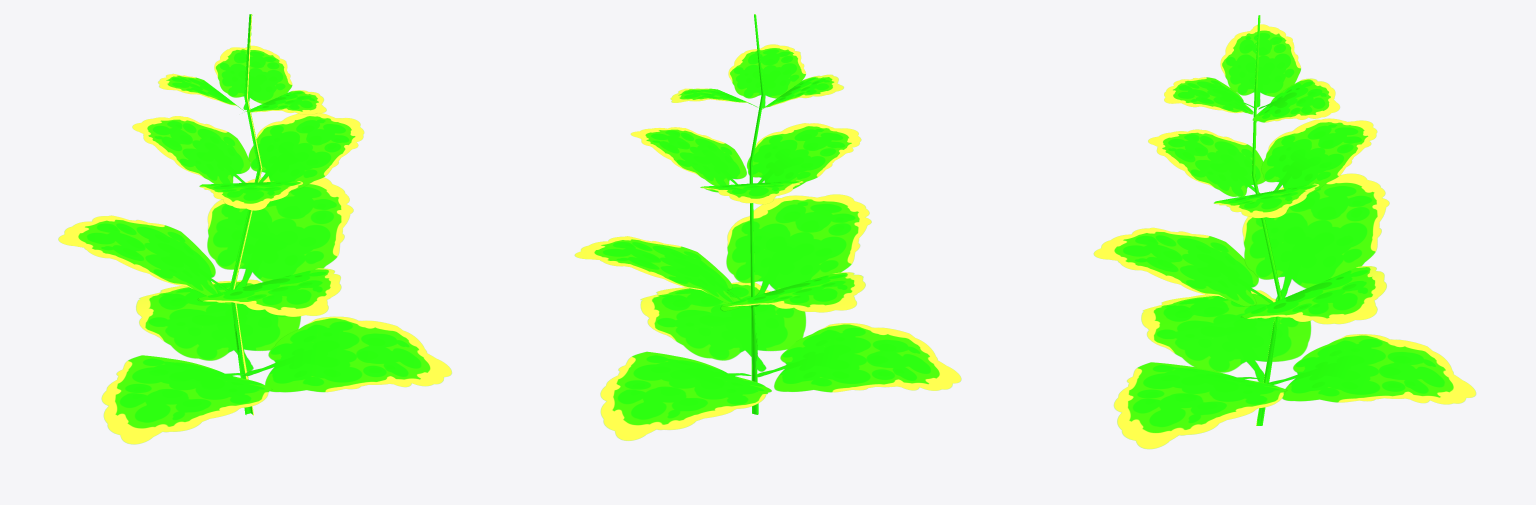
Rendered from FoliageTallGreen.glb.
3 views of the same model, side by side, from view 1: azimuth 30°, elevation 25°; view 2: azimuth 150°, elevation 25°; view 3: azimuth 270°, elevation 25° (orthographic). The views are drawn at different scales.
Visible parts, largest first — view 1: Plane.025, Plane.028, Plane.026, Plane.023, Plane.029, Plane.031, Plane.032, Plane.027, Plane.034, Plane.030, Cube.001, Plane.035 (+1 smaller); view 2: Plane.027, Plane.026, Plane.023, Plane.025, Plane.030, Plane.028, Plane.031, Plane.029, Plane.035, Cube.001, Plane.032, Plane.033 (+1 smaller); view 3: Plane.029, Plane.023, Plane.025, Plane.026, Plane.027, Plane.032, Plane.030, Plane.028, Plane.033, Plane.034, Plane.035, Plane.031 (+1 smaller).
Boxes of the visible parts, x1=… form: Plane.025: x1=245, y1=316, x2=451, y2=392; Plane.028: x1=207, y1=176, x2=353, y2=288; Plane.026: x1=101, y1=355, x2=271, y2=444; Plane.023: x1=136, y1=279, x2=300, y2=371; Plane.029: x1=58, y1=215, x2=228, y2=295; Plane.031: x1=248, y1=113, x2=364, y2=191; Plane.032: x1=132, y1=116, x2=250, y2=183; Plane.027: x1=198, y1=268, x2=341, y2=316; Plane.034: x1=214, y1=45, x2=292, y2=109; Plane.030: x1=199, y1=181, x2=303, y2=210; Cube.001: x1=229, y1=14, x2=262, y2=415; Plane.035: x1=245, y1=90, x2=326, y2=114; Plane.027: x1=726, y1=194, x2=871, y2=295; Plane.026: x1=757, y1=323, x2=961, y2=392; Plane.023: x1=600, y1=351, x2=771, y2=440; Plane.025: x1=640, y1=282, x2=805, y2=371; Plane.030: x1=747, y1=123, x2=861, y2=188; Plane.028: x1=574, y1=236, x2=749, y2=306; Plane.031: x1=631, y1=127, x2=746, y2=185; Plane.029: x1=720, y1=272, x2=865, y2=312; Plane.035: x1=728, y1=44, x2=805, y2=108; Cube.001: x1=749, y1=14, x2=764, y2=414; Plane.032: x1=700, y1=180, x2=803, y2=204; Plane.033: x1=759, y1=74, x2=843, y2=111; Plane.029: x1=1242, y1=173, x2=1389, y2=301; Plane.023: x1=1268, y1=334, x2=1475, y2=404; Plane.025: x1=1114, y1=362, x2=1286, y2=449; Plane.026: x1=1141, y1=290, x2=1310, y2=382; Plane.027: x1=1094, y1=227, x2=1273, y2=306; Plane.032: x1=1261, y1=118, x2=1377, y2=194; Plane.030: x1=1148, y1=129, x2=1265, y2=196; Plane.028: x1=1241, y1=266, x2=1386, y2=324; Plane.033: x1=1220, y1=24, x2=1300, y2=107; Plane.034: x1=1252, y1=78, x2=1339, y2=122; Plane.035: x1=1164, y1=77, x2=1253, y2=114; Plane.031: x1=1214, y1=183, x2=1319, y2=218.
Bounding box in the file's own units: 4.2 × 3.57 × 3.92.
1 material, 1 textured.
